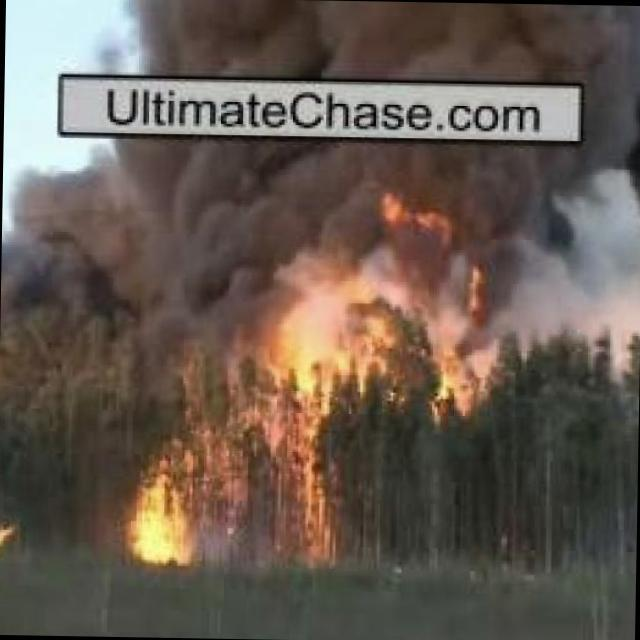Fire: (393, 196, 505, 415), (275, 321, 353, 568), (131, 457, 203, 559), (1, 517, 25, 561)
